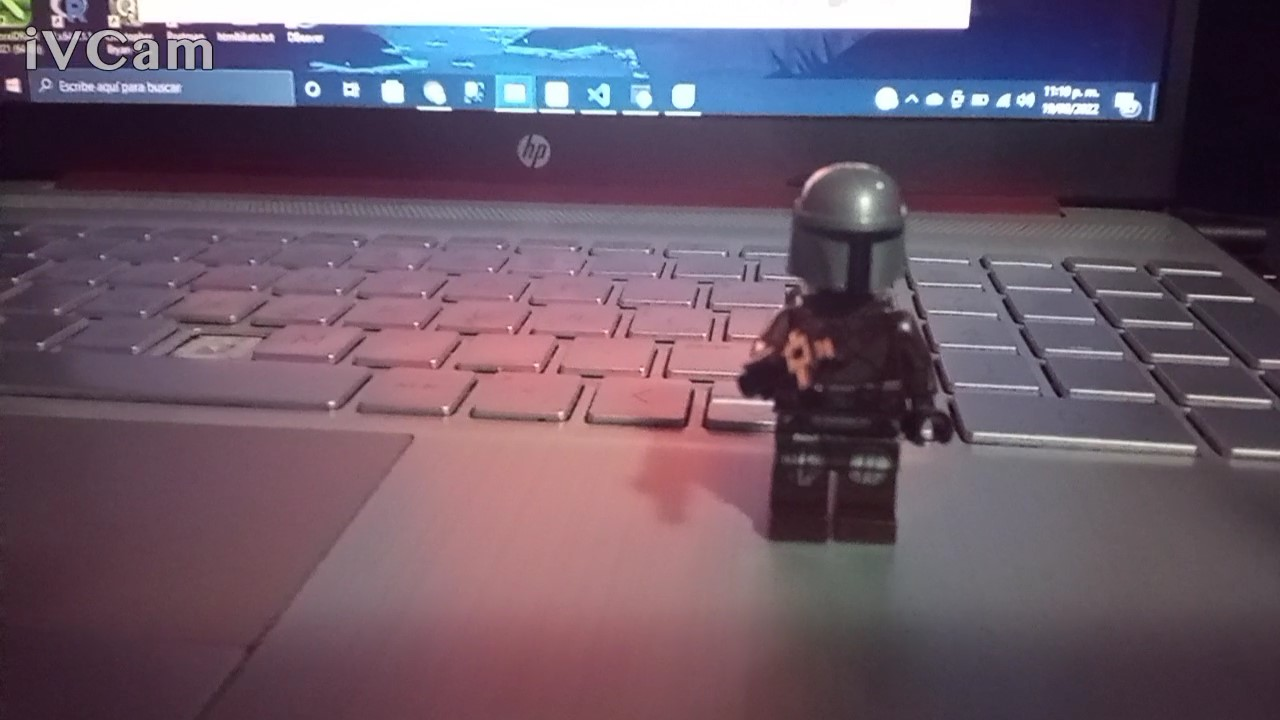mandalorian: (703, 142, 977, 588)
